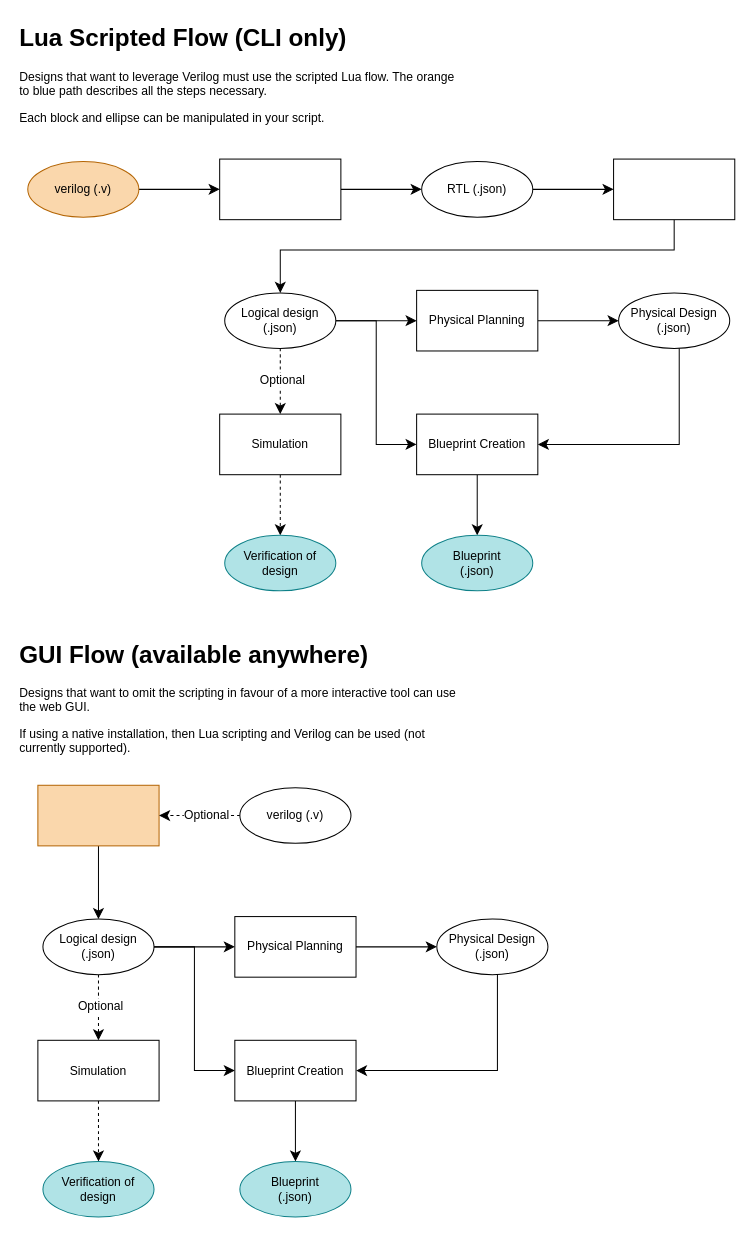
Some shapes in this 752 by 1234 pixel diagram are drawn without their labels. The box of each missing label's shape, as (x1, y1, x2, y2) in pixels:
Design Mapping: (613, 158, 735, 220)
GUI: (37, 784, 159, 846)
Yosys: (219, 158, 341, 220)
